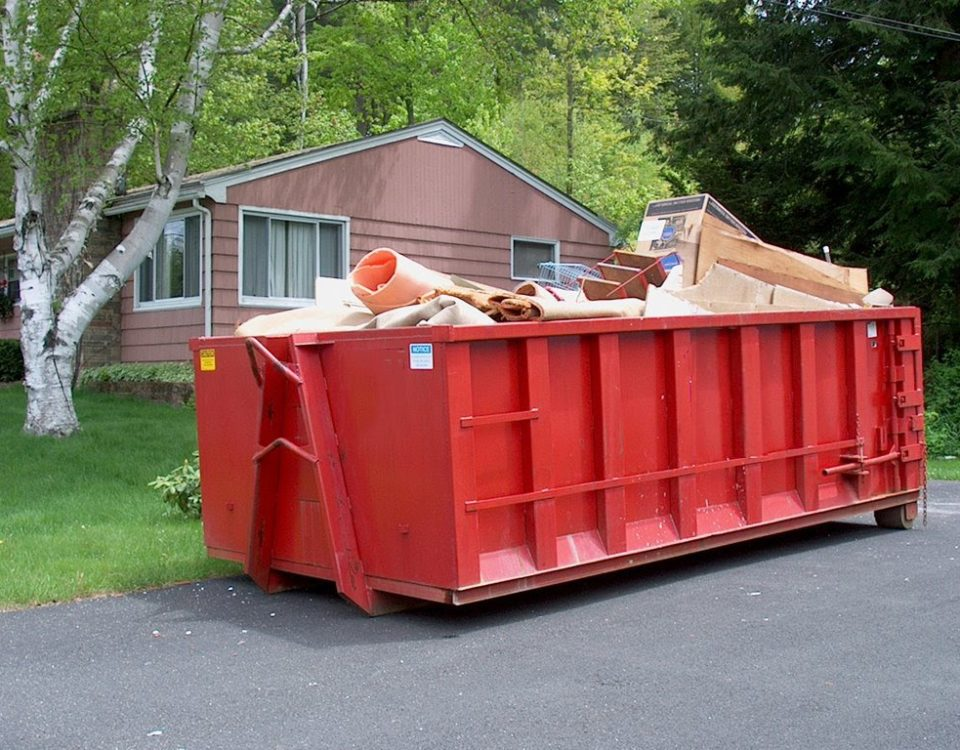Dumpster: (172, 293, 941, 628)
